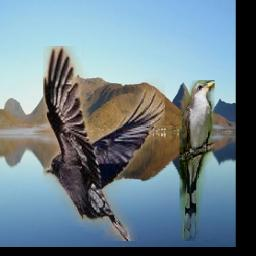Crow: (43, 47, 165, 242)
Cuckoo: (180, 81, 215, 242)
